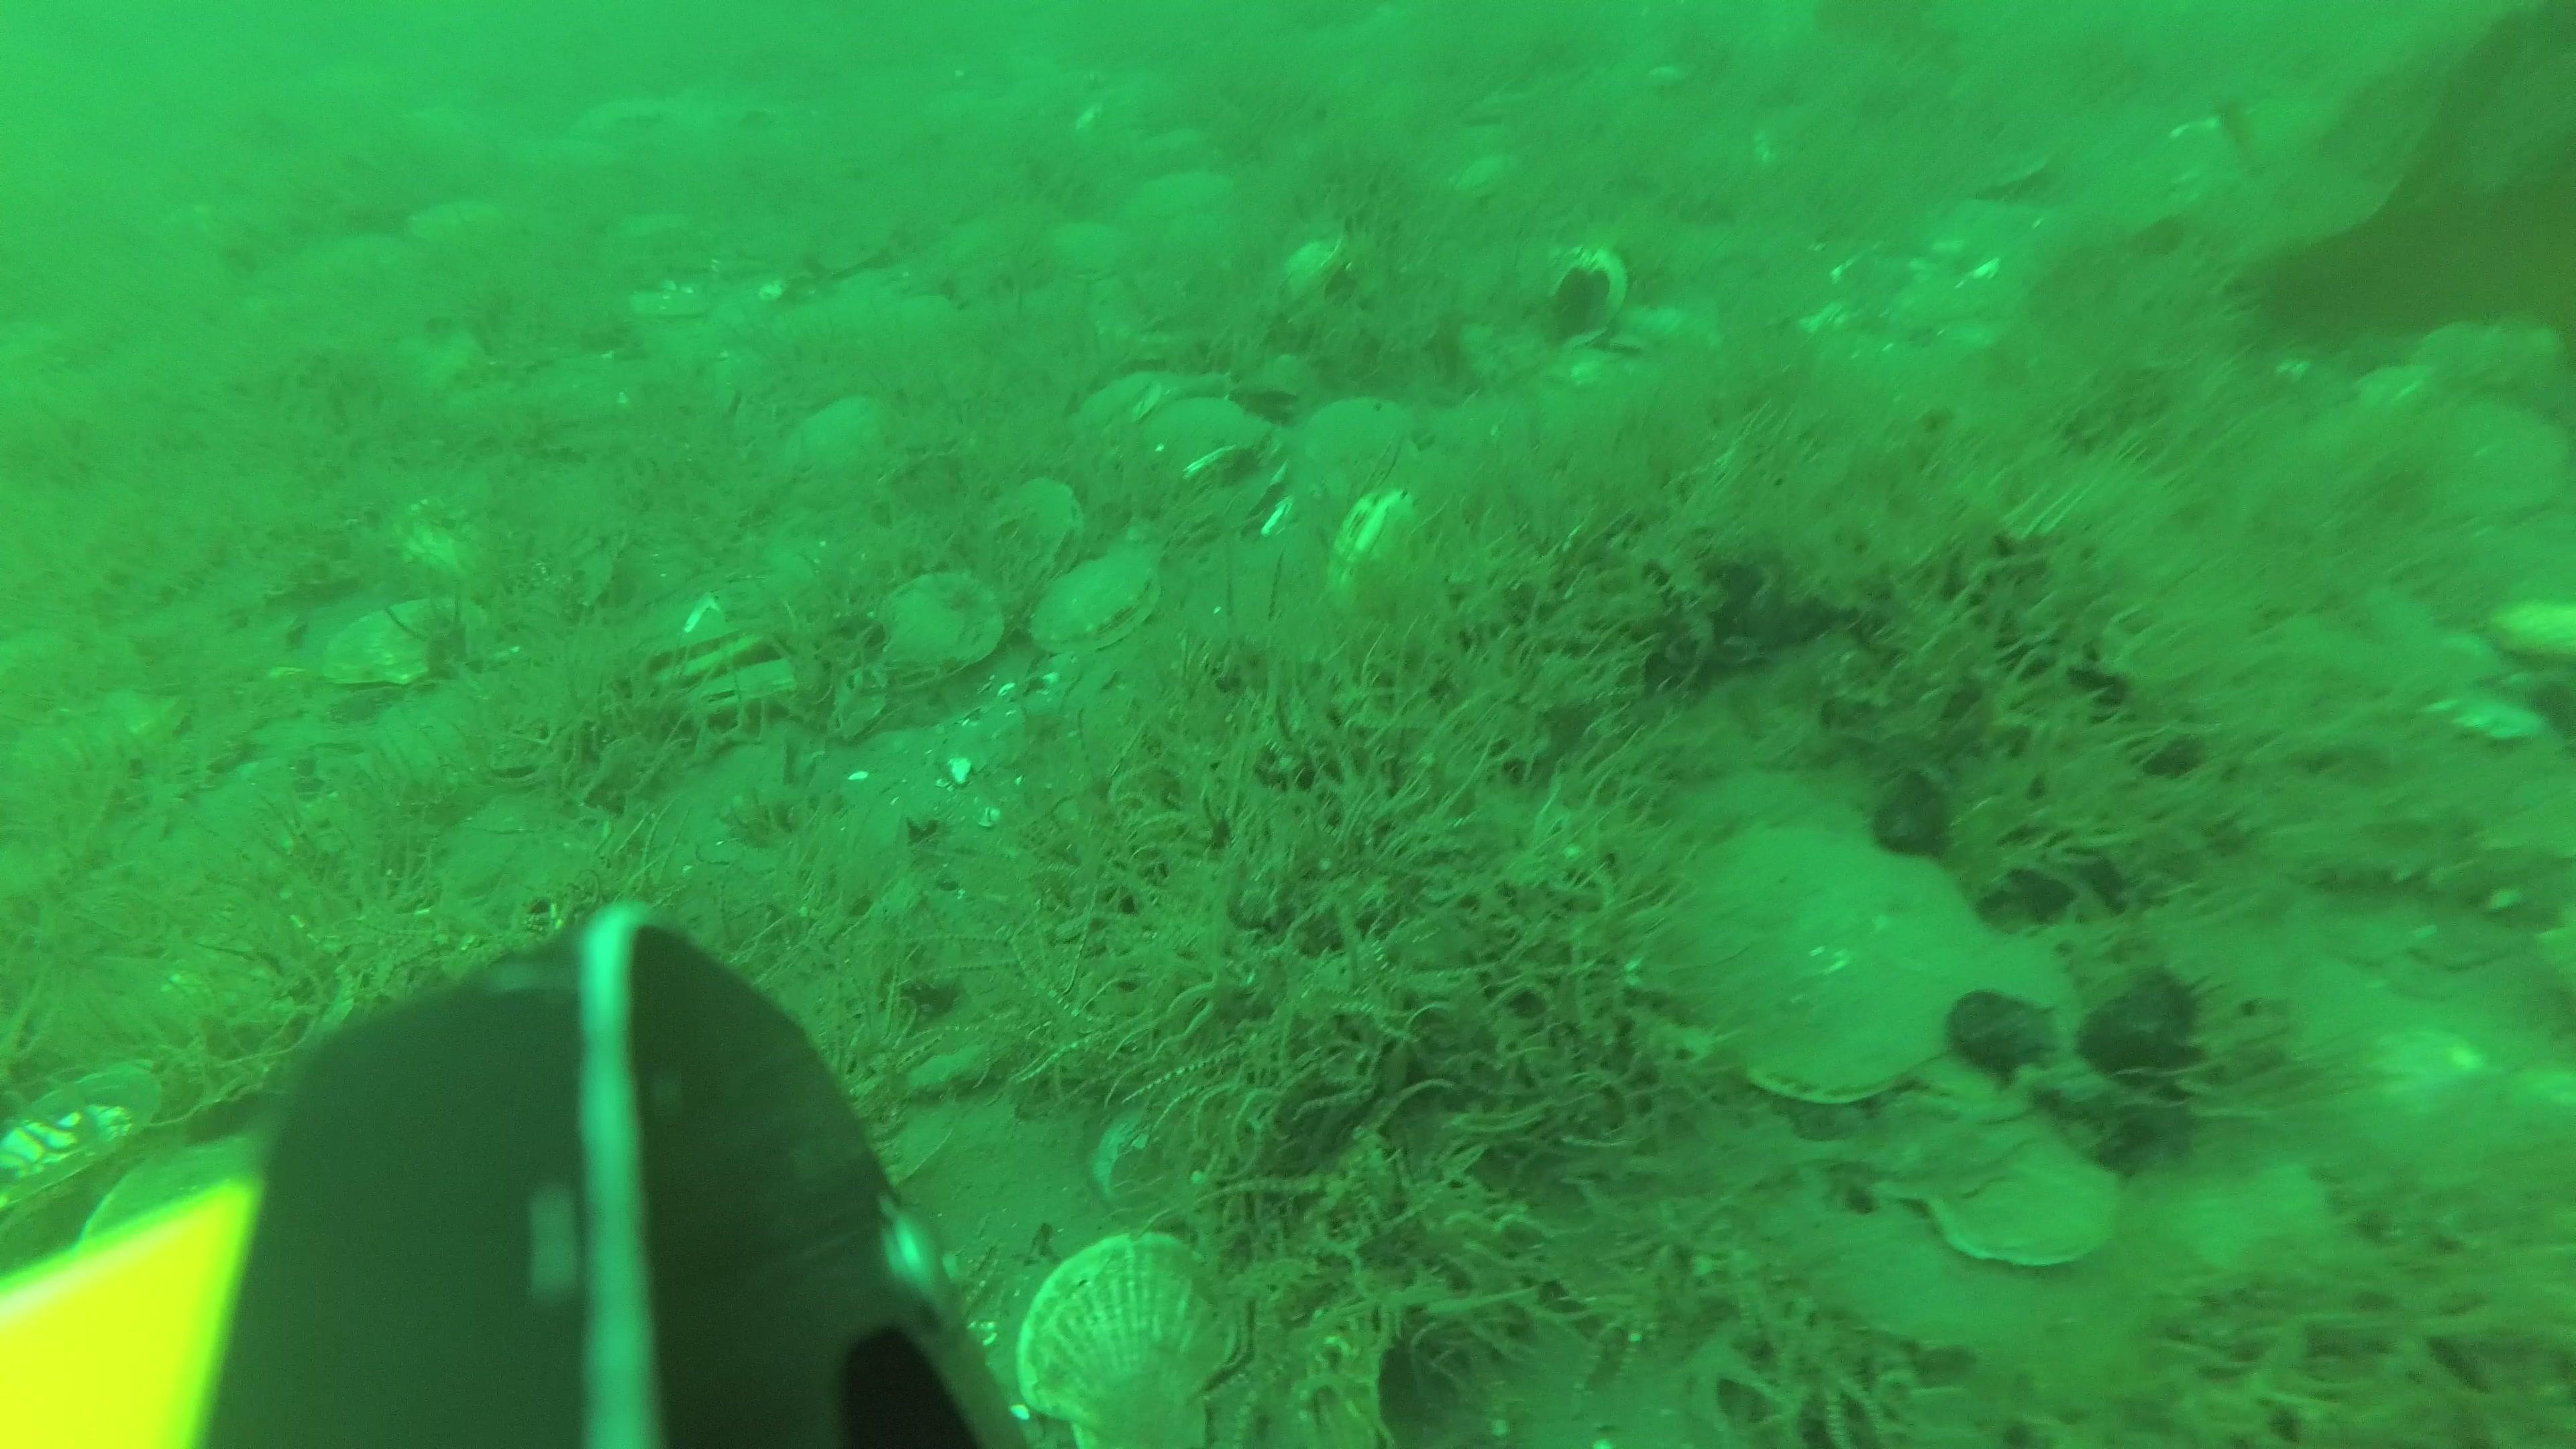holothurian: (2270, 791, 2576, 950)
scallop: (1675, 824, 1974, 1104), (1021, 1226, 1244, 1447), (1851, 1017, 2051, 1180), (1925, 1122, 2130, 1272), (1913, 929, 2084, 1108), (9, 1054, 168, 1201), (331, 586, 495, 695), (869, 573, 996, 692), (1143, 393, 1277, 495), (1297, 398, 1424, 497), (1037, 561, 1155, 658), (977, 481, 1085, 580), (784, 403, 893, 494), (1251, 234, 1355, 315), (681, 663, 800, 731), (637, 625, 759, 685), (1085, 364, 1180, 441), (409, 186, 506, 255), (1134, 170, 1238, 234), (1035, 216, 1123, 287)
